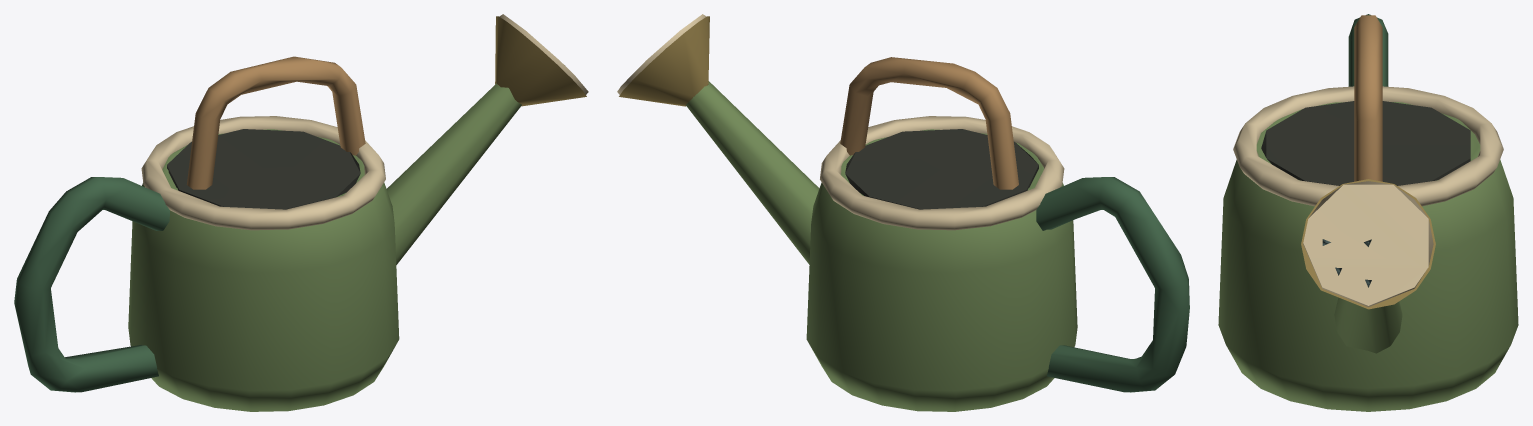
The model's file is regadera_lod.glb.
3 views of the same model, side by side, from view 1: azimuth 30°, elevation 25°; view 2: azimuth 150°, elevation 25°; view 3: azimuth 270°, elevation 25° (orthographic). The views are drawn at different scales.
Visible parts, largest first — view 1: regadera; view 2: regadera; view 3: regadera.
Boxes of the visible parts, left/top/right/bottom form: regadera: left=14, top=14, right=588, bottom=411; regadera: left=617, top=14, right=1189, bottom=411; regadera: left=1218, top=14, right=1518, bottom=411.
Size of the model in its own units: 1.27 by 0.643 by 0.534.
